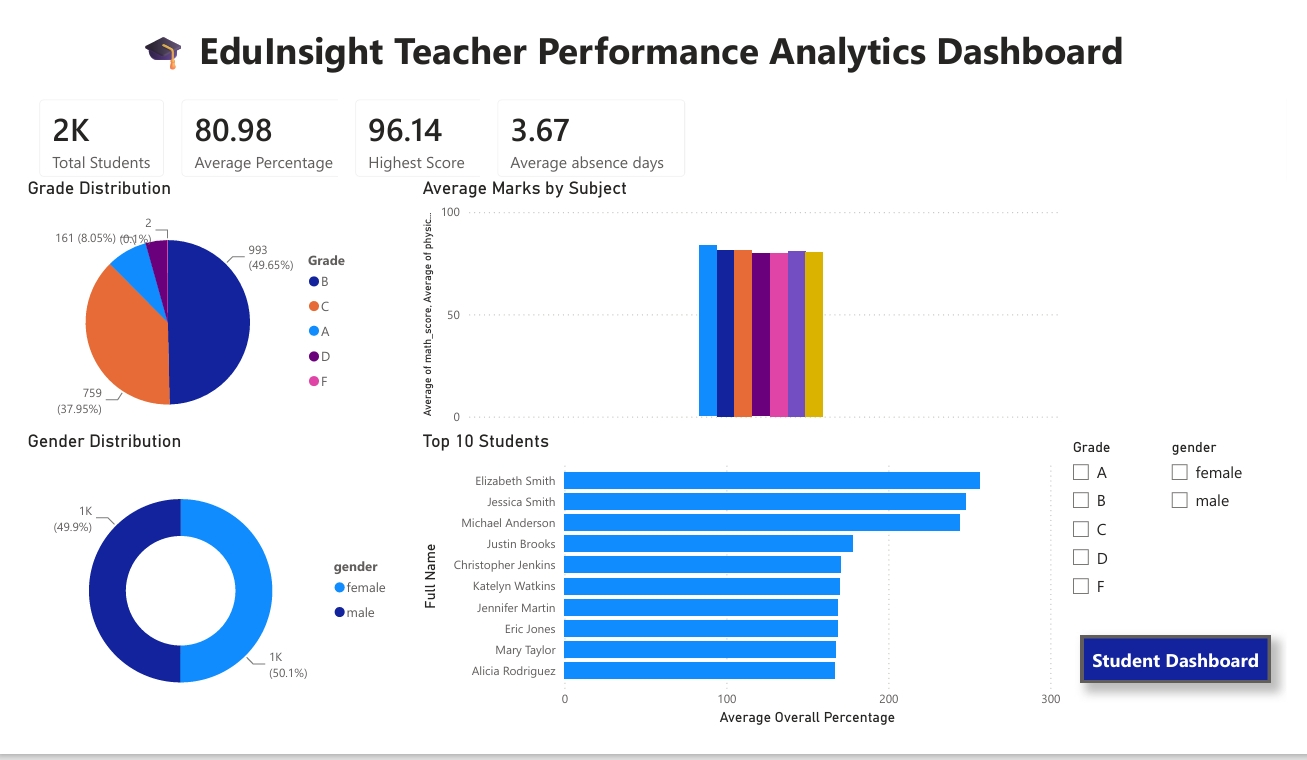

Layout of this report page (visuals, bound fields, positions):
{"tool":"powerbi","page":{"name":"Teacher Analytics","canvas":[1280,720],"ordinal":1},"visuals":[{"type":"cardVisual","fields":{"Data":["CountNonNull(student_performance_transformed.id)"]},"box":[0,64,160,112],"z":0},{"type":"cardVisual","fields":{"Data":["Avg(student_performance_transformed.Overall Percentage)"]},"box":[144,64,208,112],"z":1000},{"type":"cardVisual","fields":{"Data":["Max(student_performance_transformed.Overall Percentage)"]},"box":[320,64,208,112],"z":2000},{"type":"cardVisual","fields":{"Data":["Avg(student_performance_transformed.absence_days)"]},"box":[464,64,224,112],"z":3000},{"type":"pieChart","title":"Grade Distribution","fields":{"Category":["student_performance_transformed.Grade"],"Y":["CountNonNull(student_performance_transformed.Grade)"]},"box":[0,160,352,272],"z":4000},{"type":"clusteredColumnChart","title":"Average Marks by Subject","fields":{"Y":["Avg(student_performance_transformed.math_score)","Avg(student_performance_transformed.physics_score)","Avg(student_performance_transformed.english_score)","Avg(student_performance_transformed.biology_score)","Avg(student_performance_transformed.chemistry_score)","Avg(student_performance_transformed.geography_score)","Avg(student_performance_transformed.history_score)"]},"box":[400,160,656,256],"z":5000},{"type":"donutChart","title":"Gender Distribution","fields":{"Category":["student_performance_transformed.gender"],"Y":["CountNonNull(student_performance_transformed.gender)"]},"box":[0,416,384,304],"z":6000},{"type":"clusteredBarChart","title":"Top 10 Students","fields":{"Category":["student_performance_transformed.Full Name"],"Y":["Sum(student_performance_transformed.Overall Percentage)"]},"box":[400,416,656,304],"z":7000},{"type":"slicer","fields":{"Values":["student_performance_transformed.Grade"]},"box":[1051.4,420,99.6,294.8],"z":8000},{"type":"slicer","fields":{"Values":["student_performance_transformed.gender"]},"box":[1151,420,96.9,294.8],"z":9000},{"type":"textbox","box":[112,0,1168,80],"z":10000},{"type":"actionButton","box":[1072,624,192,48],"z":10001}]}

Visuals, with their boxes on the page's 1280x720 design canvas (x1, y1, x2, y2). These are canvas units, not pixel positions in the 1307x760 screenshot, which may show the page scaled, cropped or inside an application window:
cardVisual - CountNonNull(student_performance_transformed.id): detection(0, 64, 160, 176)
cardVisual - Avg(student_performance_transformed.Overall Percentage): detection(144, 64, 352, 176)
cardVisual - Max(student_performance_transformed.Overall Percentage): detection(320, 64, 528, 176)
cardVisual - Avg(student_performance_transformed.absence_days): detection(464, 64, 688, 176)
"Grade Distribution" pieChart: detection(0, 160, 352, 432)
"Average Marks by Subject" clusteredColumnChart: detection(400, 160, 1056, 416)
"Gender Distribution" donutChart: detection(0, 416, 384, 720)
"Top 10 Students" clusteredBarChart: detection(400, 416, 1056, 720)
slicer - student_performance_transformed.Grade: detection(1051, 420, 1151, 715)
slicer - student_performance_transformed.gender: detection(1151, 420, 1248, 715)
textbox: detection(112, 0, 1280, 80)
actionButton: detection(1072, 624, 1264, 672)
